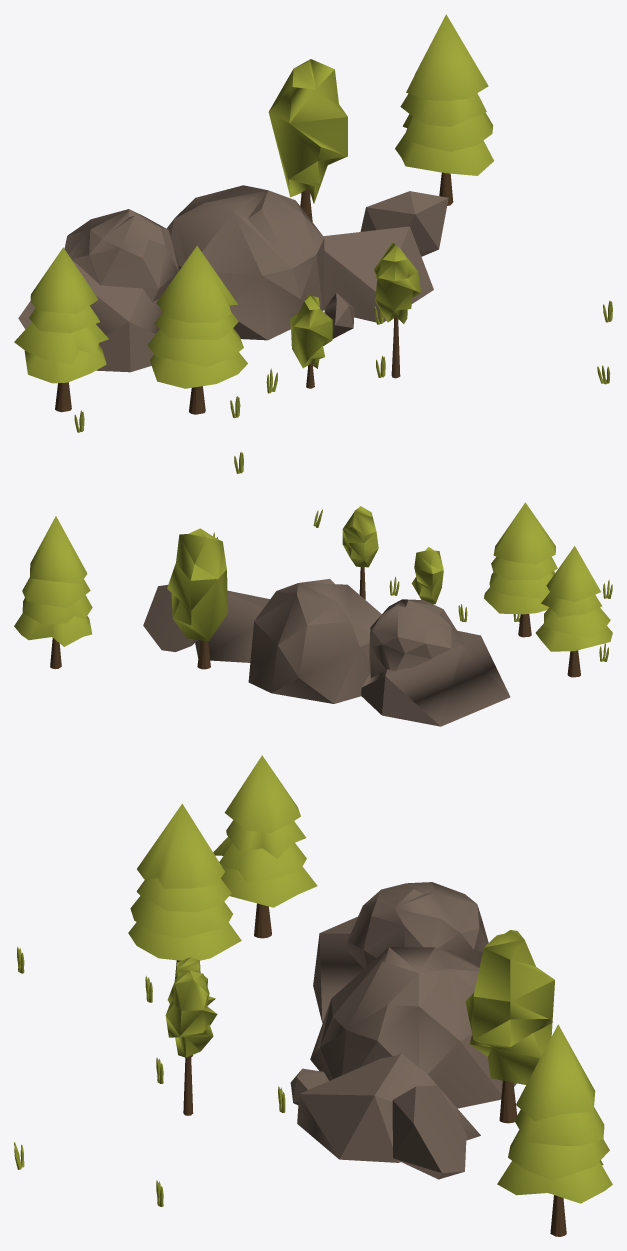
File: trees-rocks.glb
3 renders of one model, top to bottom at view 1: azimuth 30°, elevation 25°; view 2: azimuth 150°, elevation 25°; view 3: azimuth 270°, elevation 25°, orthographic. The views are drawn at different scales.
Parts seen in each view (by area): view 1: pSphere1, pCone14, pCone13, pCone15, pCone21, pSphere2, pSolid3, pSolid1, pSolid2, pCone23, pCone22, pSolid4; view 2: pSphere1, pSolid1, pCone14, pCone13, pCone21, pCone15, pSphere2, pSolid3, pCone23, pSolid2, pCone22; view 3: pSphere1, pCone14, pCone13, pCone21, pCone15, pSolid3, pSphere2, pSolid2, pCone23, pSolid1, pSolid4.
Boxes of the visible parts, box(x1,y1,x2,y2) form: pSphere1: box(166, 185, 324, 340); pCone14: box(395, 14, 493, 205); pCone13: box(147, 246, 247, 414); pCone15: box(14, 247, 108, 412); pCone21: box(268, 59, 347, 221); pSphere2: box(64, 209, 179, 302); pSolid3: box(323, 226, 433, 322); pSolid1: box(18, 261, 162, 372); pSolid2: box(360, 191, 448, 256); pCone23: box(374, 242, 420, 378); pCone22: box(290, 295, 332, 388); pSolid4: box(324, 292, 354, 338); pSphere1: box(248, 579, 381, 703); pSolid1: box(361, 630, 510, 726); pCone14: box(14, 516, 92, 669); pCone13: box(484, 502, 557, 637); pCone21: box(167, 528, 227, 669); pCone15: box(535, 546, 612, 677); pSphere2: box(369, 599, 460, 678); pSolid3: box(195, 590, 269, 662); pCone23: box(342, 506, 378, 599); pSolid2: box(143, 585, 197, 651); pCone22: box(411, 547, 443, 604); pSphere1: box(310, 947, 516, 1108); pCone14: box(497, 1024, 612, 1236); pCone13: box(128, 803, 241, 977); pCone21: box(465, 930, 554, 1123); pCone15: box(213, 755, 317, 938); pSolid3: box(297, 1053, 480, 1162); pSphere2: box(347, 882, 488, 968); pSolid2: box(392, 1085, 466, 1179); pCone23: box(165, 970, 217, 1115); pSolid1: box(313, 916, 363, 1022); pSolid4: box(290, 1068, 328, 1104).
Bounding box in the file's own units: 85.18 × 26.6 × 66.39.
